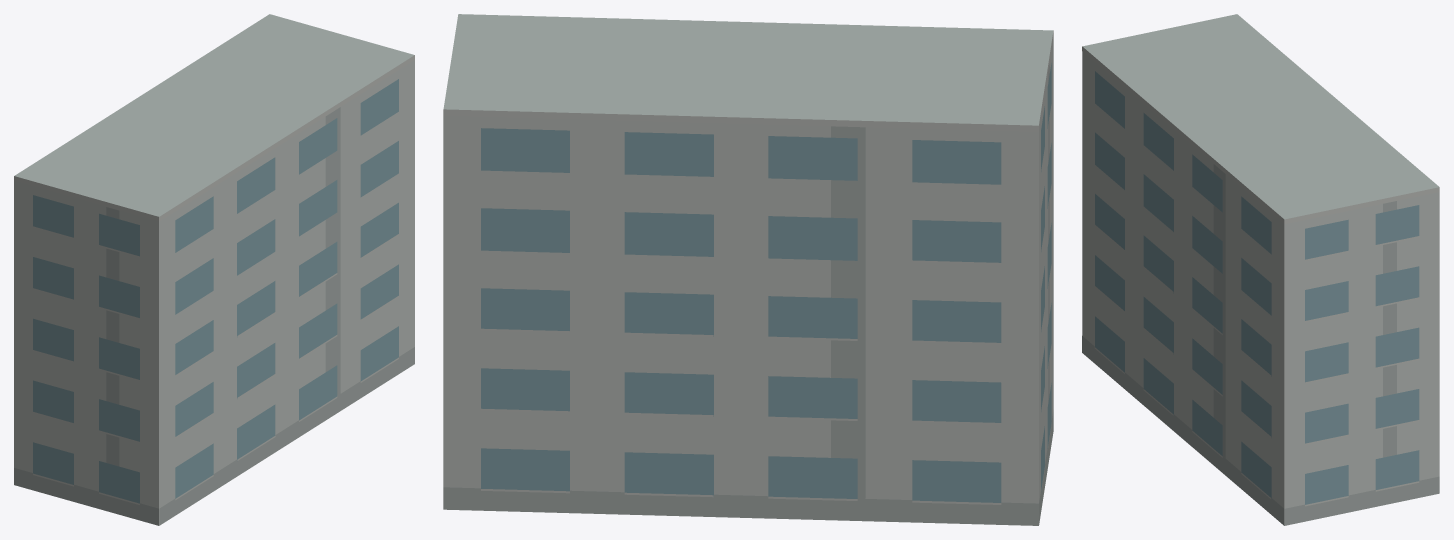
Rendered from residential-3d58e7fc-60ac-432a-a3de-e0a42b49bd28.glb.
3 renders of one model, left to right at view 1: azimuth 30°, elevation 25°; view 2: azimuth 150°, elevation 25°; view 3: azimuth 270°, elevation 25°, orthographic. The views are drawn at different scales.
Parts seen in each view (by area): view 1: residential-3d58e7fc-60ac-432a-a3de-e0a42b49bd28.tmp; view 2: residential-3d58e7fc-60ac-432a-a3de-e0a42b49bd28.tmp; view 3: residential-3d58e7fc-60ac-432a-a3de-e0a42b49bd28.tmp.
Part boxes in pixels (bbox=[...]): residential-3d58e7fc-60ac-432a-a3de-e0a42b49bd28.tmp: bbox=[14, 14, 414, 525]; residential-3d58e7fc-60ac-432a-a3de-e0a42b49bd28.tmp: bbox=[443, 14, 1053, 525]; residential-3d58e7fc-60ac-432a-a3de-e0a42b49bd28.tmp: bbox=[1082, 14, 1439, 525].
Size of the model in its own units: 21.93 by 15.25 by 16.13.
